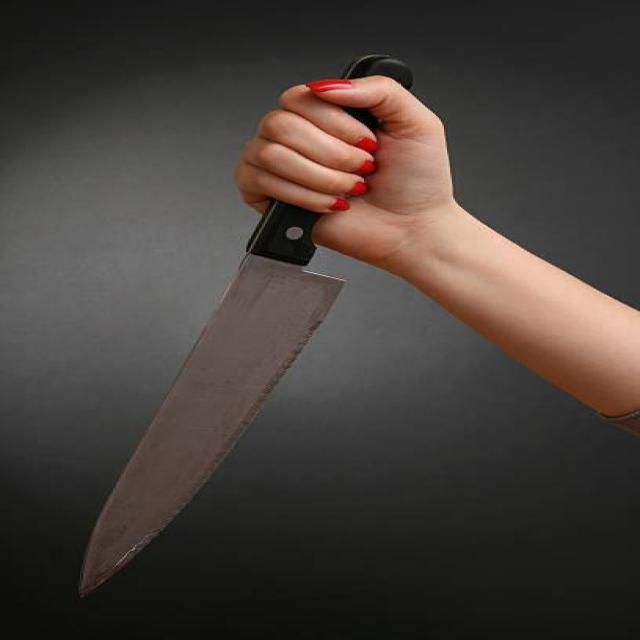faca: (50, 48, 468, 598)
